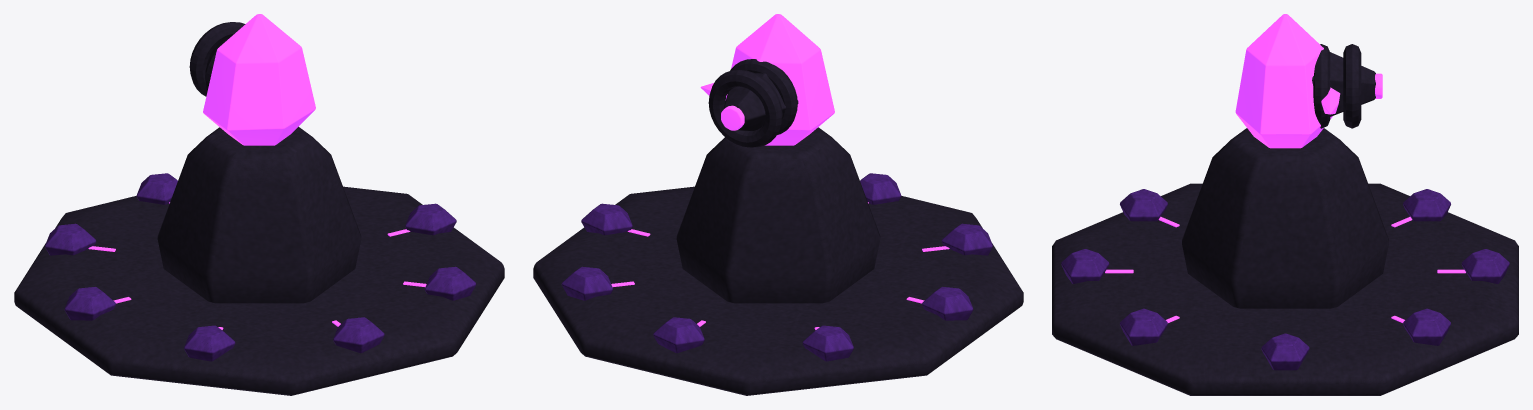
File: conclave_tour_prisme.gltf
The picture shows the model from 3 angles, left to right: view 1: azimuth 30°, elevation 25°; view 2: azimuth 150°, elevation 25°; view 3: azimuth 270°, elevation 25°; orthographic projection.
Parts seen in each view (by area): view 1: Root.014_Geometry, TurretYaw.003_Geometry, GunRecoil.004_Geometry; view 2: Root.014_Geometry, GunRecoil.004_Geometry, TurretYaw.003_Geometry; view 3: Root.014_Geometry, TurretYaw.003_Geometry, GunRecoil.004_Geometry.
Boxes of the visible parts, x1,y1,x2,y2 form: Root.014_Geometry: (14,126,504,395); TurretYaw.003_Geometry: (203,14,315,145); GunRecoil.004_Geometry: (189,22,245,96); Root.014_Geometry: (533,127,1023,395); GunRecoil.004_Geometry: (700,59,798,147); TurretYaw.003_Geometry: (731,14,834,145); Root.014_Geometry: (1052,128,1518,395); TurretYaw.003_Geometry: (1235,14,1332,148); GunRecoil.004_Geometry: (1312,44,1382,128).
Size of the model in its own units: 3.92 by 2.63 by 3.92.
Materials: 3 (2 with a texture image).
